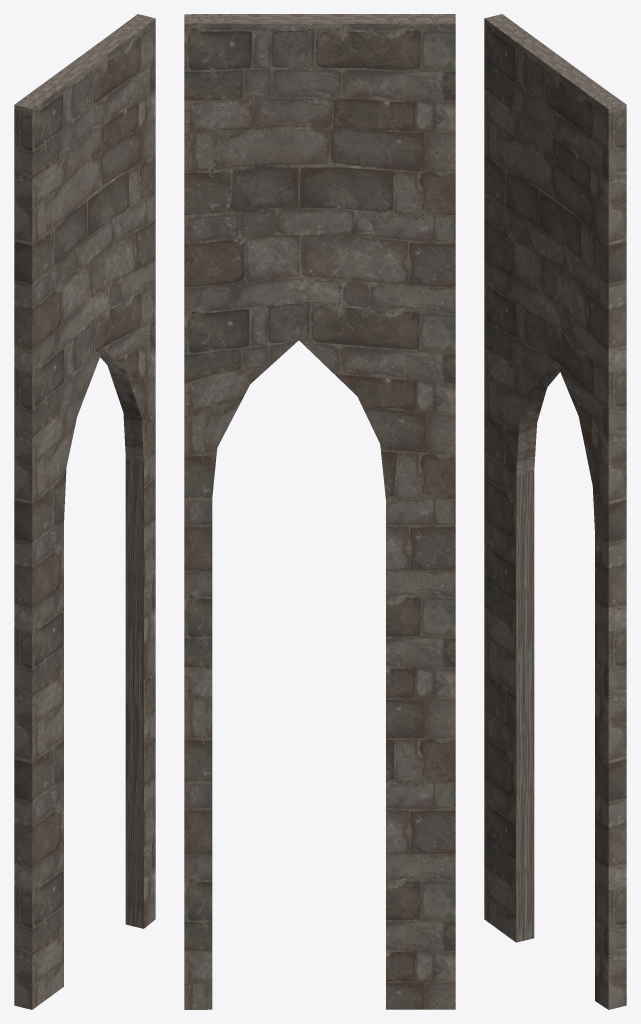
File: SM_ArchCeiling_04b.fbx
The picture shows the model from 3 angles, left to right: view 1: azimuth 30°, elevation 25°; view 2: azimuth 150°, elevation 25°; view 3: azimuth 270°, elevation 25°; orthographic projection. The views are drawn at different scales.
Parts seen in each view (by area): view 1: SM_ArchCeiling_04b; view 2: SM_ArchCeiling_04b; view 3: SM_ArchCeiling_04b.
Part boxes in pixels (left/top/right/bottom): SM_ArchCeiling_04b: left=14, top=14, right=155, bottom=1009; SM_ArchCeiling_04b: left=184, top=14, right=455, bottom=1009; SM_ArchCeiling_04b: left=484, top=14, right=626, bottom=1009.
Bounding box in the file's own units: 1078 × 4765 × 682.
Materials: 1 (1 with a texture image).
